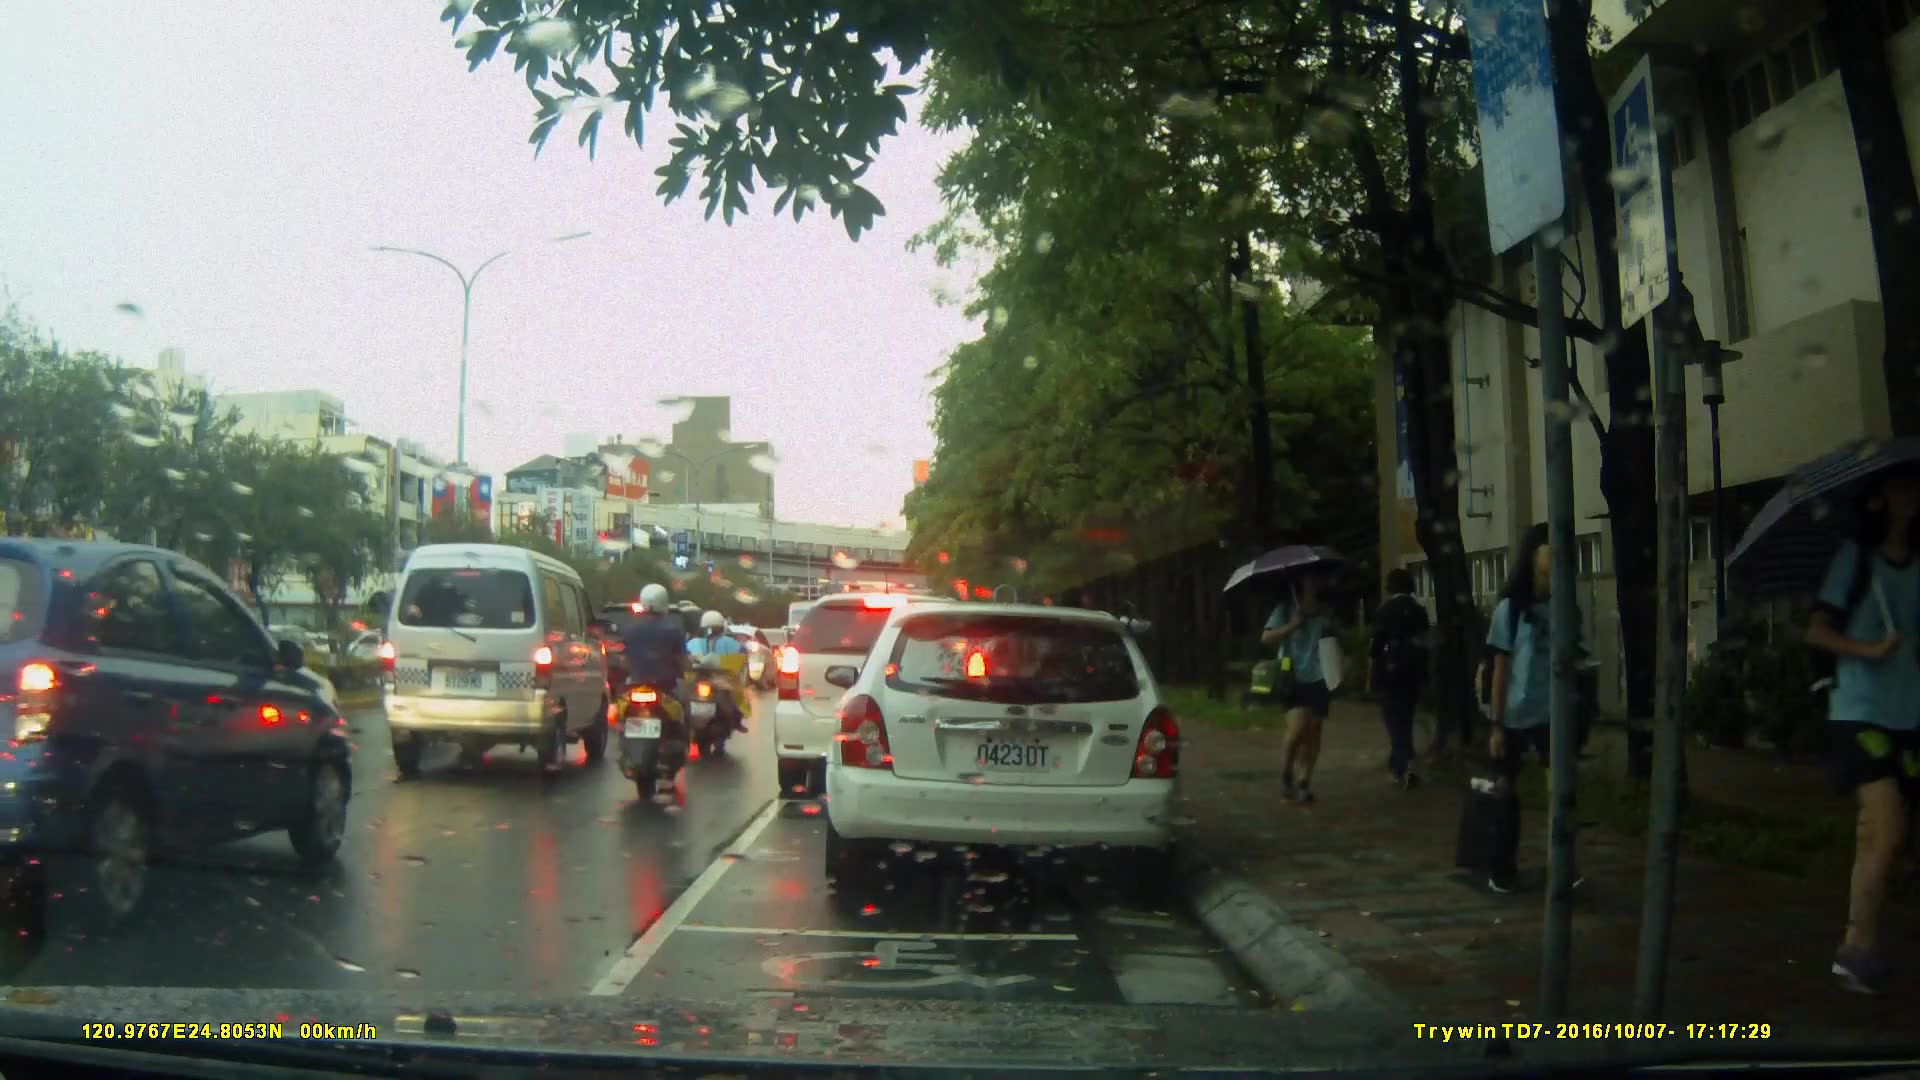pedestrian: (1779, 462, 1920, 1001), (1475, 508, 1601, 932), (1359, 563, 1441, 799), (1266, 557, 1341, 810)
rider: (618, 579, 696, 804), (679, 609, 746, 762)
vehicle: (3, 534, 356, 932), (815, 593, 1204, 909), (371, 541, 607, 778), (770, 590, 993, 802), (582, 603, 737, 725)
